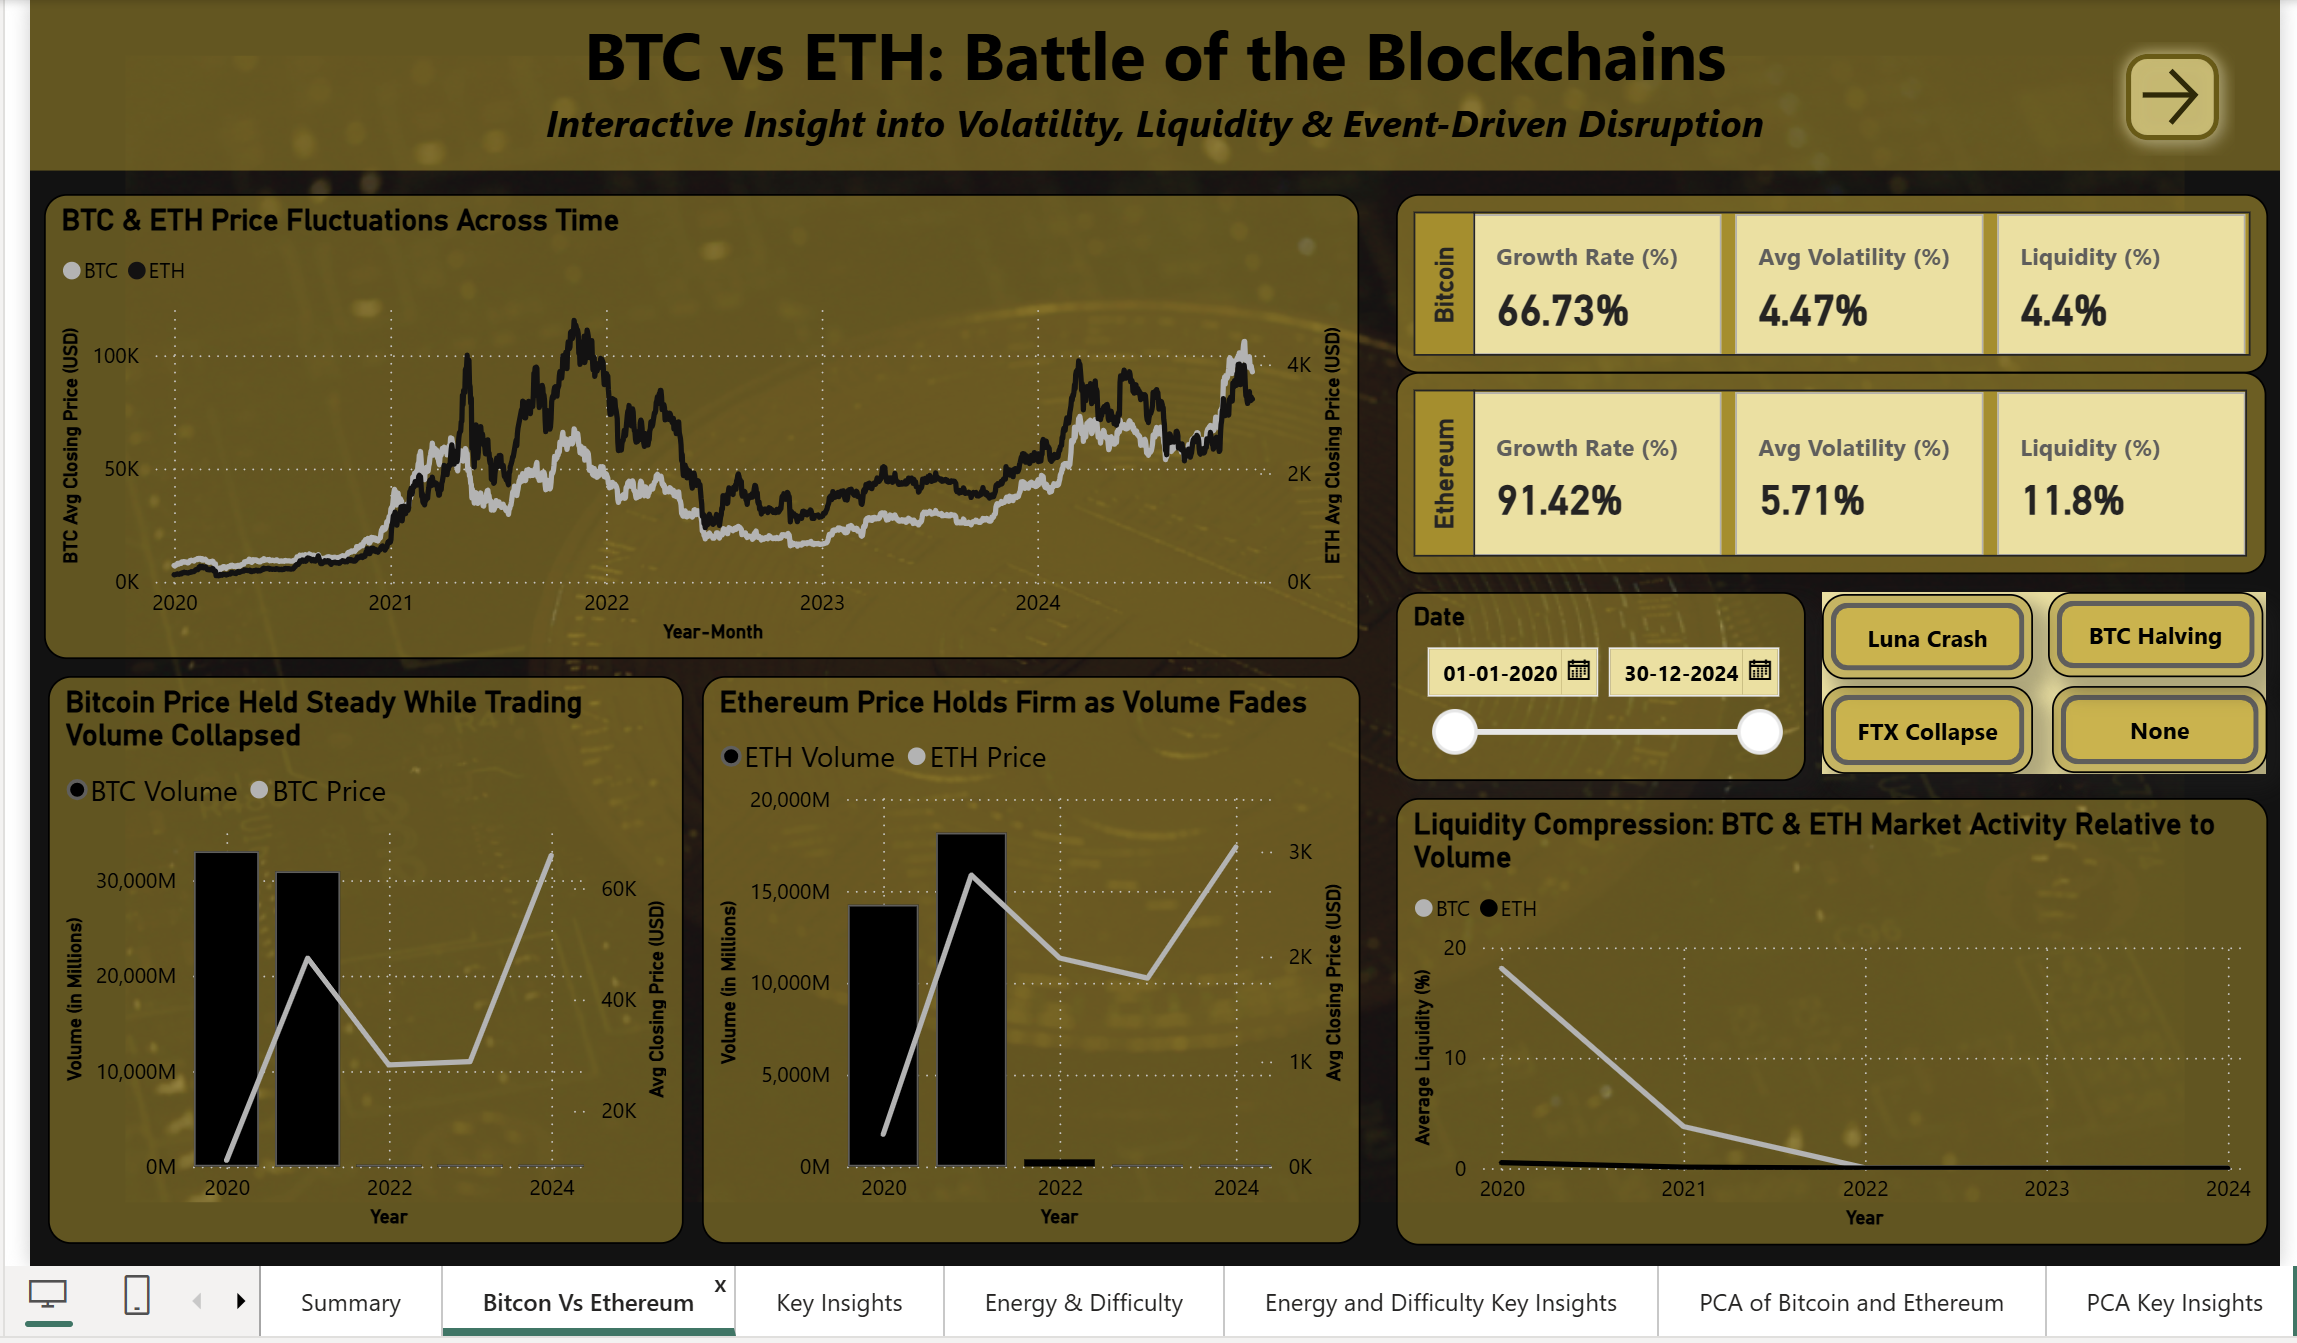

The dashboard page shown, as its layout file describes it:
{"tool":"powerbi","page":{"name":"Bitcon Vs Ethereum","canvas":[1280,720],"ordinal":1},"visuals":[{"type":"cardVisual","fields":{"Data":["Master_Bitcoin.Growth_Rate%","Master_Bitcoin.BTC_Avg_Volatility","Master_Bitcoin.BTC_Liquidity%"],"Rows":["Master_Bitcoin.Name"]},"box":[776.4,109.8,496.1,102.1],"z":0},{"type":"actionButton","box":[1019.5,337.2,120.2,48.5],"z":0,"group":"g1"},{"type":"cardVisual","fields":{"Data":["Master_Ethereum.Smart_Growth_%_ETH","Master_Ethereum.Avg_ETH_Volatility","Master_Ethereum.ETH_Liquidity%"],"Rows":["Master_Ethereum.Name"]},"box":[776.7,211.7,494.8,115.2],"z":1000},{"type":"actionButton","box":[1149.6,390.3,122.6,49.5],"z":1000,"group":"g1"},{"type":"areaChart","title":"BTC & ETH Price Fluctuations Across Time","fields":{"Y":["Avg(Master_Bitcoin.Close)"],"Category":["Dim_Date.Date.Variation.Date Hierarchy.Year","Dim_Date.Date.Variation.Date Hierarchy.Month","Dim_Date.Date.Variation.Date Hierarchy.Day"],"Y2":["Avg(Master_Ethereum.Close)"]},"box":[8,110.9,748.2,264.6],"z":2000},{"type":"actionButton","box":[1019.3,390.5,120.2,50.1],"z":2000,"group":"g1"},{"type":"actionButton","box":[1148.2,336.5,122.6,48.4],"z":3000,"group":"g1"},{"type":"slicer","title":"Date","fields":{"Values":["Dim_Date.Date"]},"box":[776.7,337,233,107.7],"z":3000},{"type":"lineClusteredColumnComboChart","title":"Bitcoin Price Held Steady While Trading Volume Collapsed","fields":{"Category":["Dim_Date.Date.Variation.Date Hierarchy.Year"],"Y":["Avg(Master_Bitcoin.Volume_Final)"],"Y2":["Avg(Master_Bitcoin.Close)"]},"box":[10.3,385,361.7,323],"z":4000},{"type":"lineClusteredColumnComboChart","title":"Ethereum Price Holds Firm as Volume Fades","fields":{"Category":["Dim_Date.Date.Variation.Date Hierarchy.Year"],"Y":["Avg(Master_Ethereum.Volume_Final)"],"Y2":["Avg(Master_Ethereum.Close)"]},"box":[382.4,385,374.6,323],"z":5000},{"type":"textbox","box":[0,0,1279.8,96.8],"z":11000},{"type":"group","id":"g1","title":"Group 1","box":[1019.3,336.5,252.9,104.1],"z":12000},{"type":"lineChart","title":"Liquidity Compression: BTC & ETH Market Activity Relative to Volume","fields":{"Y":["Avg(Master_Bitcoin.Liquidity(%)_BTC)","Avg(Master_Ethereum.Liquidity(%)_BTC)"],"Category":["Dim_Date.Date.Variation.Date Hierarchy.Year"]},"box":[776.4,453.5,496.1,254.5],"z":13000},{"type":"actionButton","box":[1183,22,71,67.1],"z":15000}]}

Visuals, with their boxes on the page's 1280x720 design canvas (x1, y1, x2, y2). These are canvas units, not pixel positions in the 2297x1343 screenshot, which may show the page scaled, cropped or inside an application window:
cardVisual - Master_Bitcoin.Growth_Rate% x Master_Bitcoin.BTC_Avg_Volatility: bbox=(776, 110, 1272, 212)
actionButton: bbox=(1020, 337, 1140, 386)
cardVisual - Master_Ethereum.Smart_Growth_%_ETH x Master_Ethereum.Avg_ETH_Volatility: bbox=(777, 212, 1272, 327)
actionButton: bbox=(1150, 390, 1272, 440)
"BTC & ETH Price Fluctuations Across Time" areaChart: bbox=(8, 111, 756, 376)
actionButton: bbox=(1019, 390, 1140, 441)
actionButton: bbox=(1148, 336, 1271, 385)
"Date" slicer: bbox=(777, 337, 1010, 445)
"Bitcoin Price Held Steady While Trading Volume Collapsed" lineClusteredColumnComboChart: bbox=(10, 385, 372, 708)
"Ethereum Price Holds Firm as Volume Fades" lineClusteredColumnComboChart: bbox=(382, 385, 757, 708)
textbox: bbox=(0, 0, 1280, 97)
"Group 1" group: bbox=(1019, 336, 1272, 441)
"Liquidity Compression: BTC & ETH Market Activity Relative to Volume" lineChart: bbox=(776, 454, 1272, 708)
actionButton: bbox=(1183, 22, 1254, 89)
